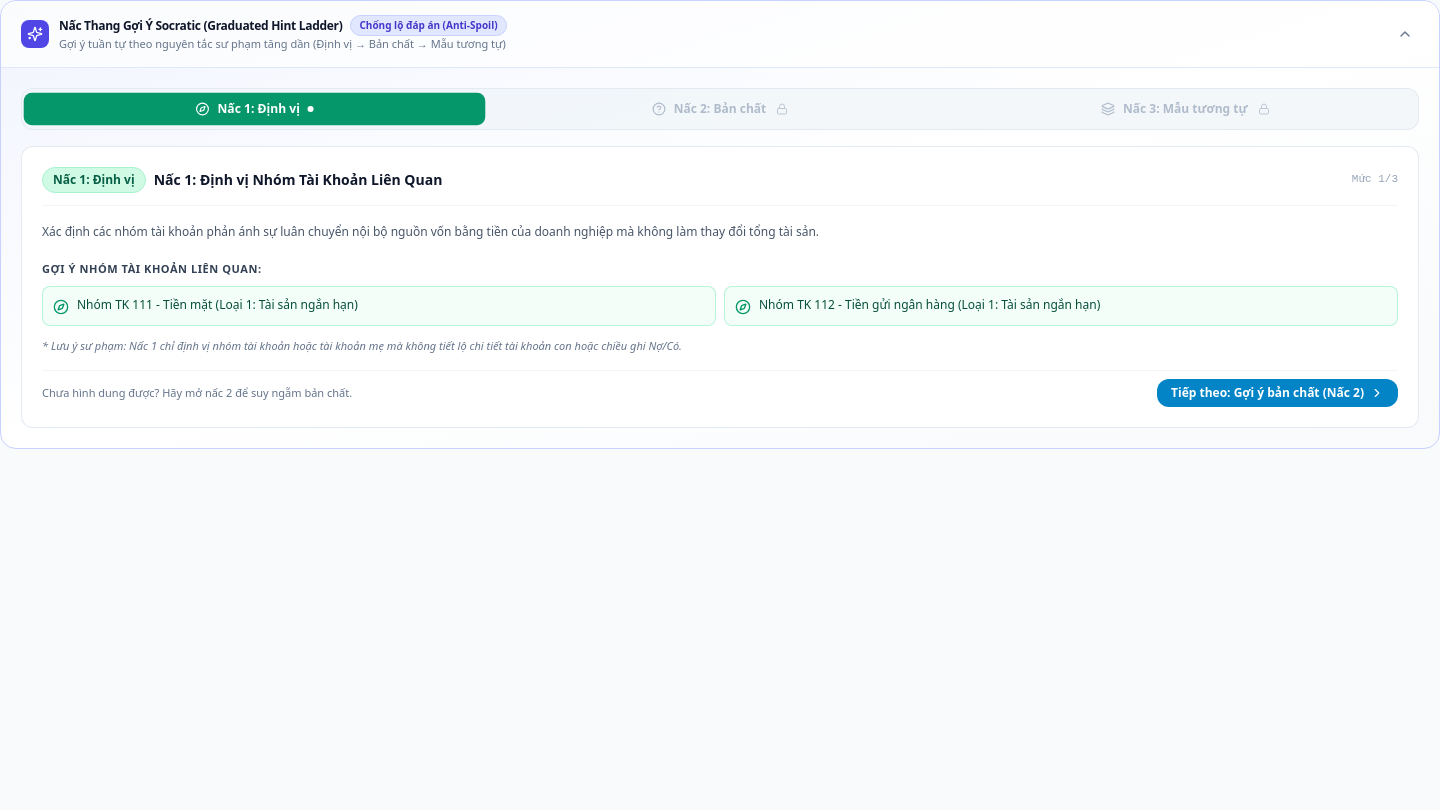
it: SOCRATIC HINT LADDER (R2) UNIT TESTS › 3. Anti-Spoil Sequential Progression › should reset ladder progression back to Level 1 when "Đặt lại" button is clicked
This screenshot has width=1440, height=810.
Note: Unlock through Level 2
Click the button with test id "unlock-level-2-button".
click(1278, 393)  # box [1157, 379, 1398, 407]
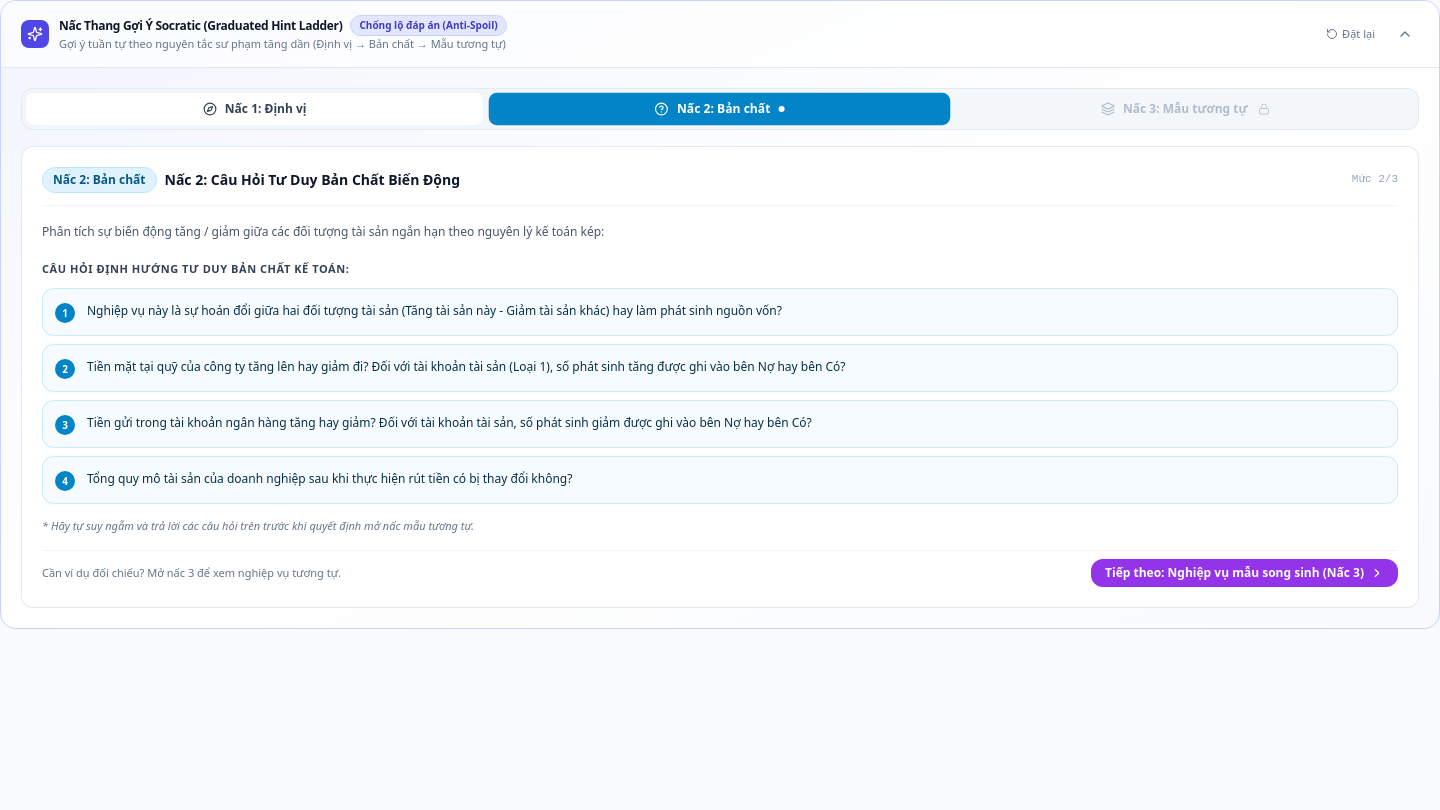
Now the element with test id "level-2-content" is shown, box [42, 257, 1398, 534]
Note: Click "Đặt lại" in header
Click the button titled "Đặt lại nấc thang gợi ý về Nấc 1".
click(1351, 34)  # box [1318, 22, 1383, 46]
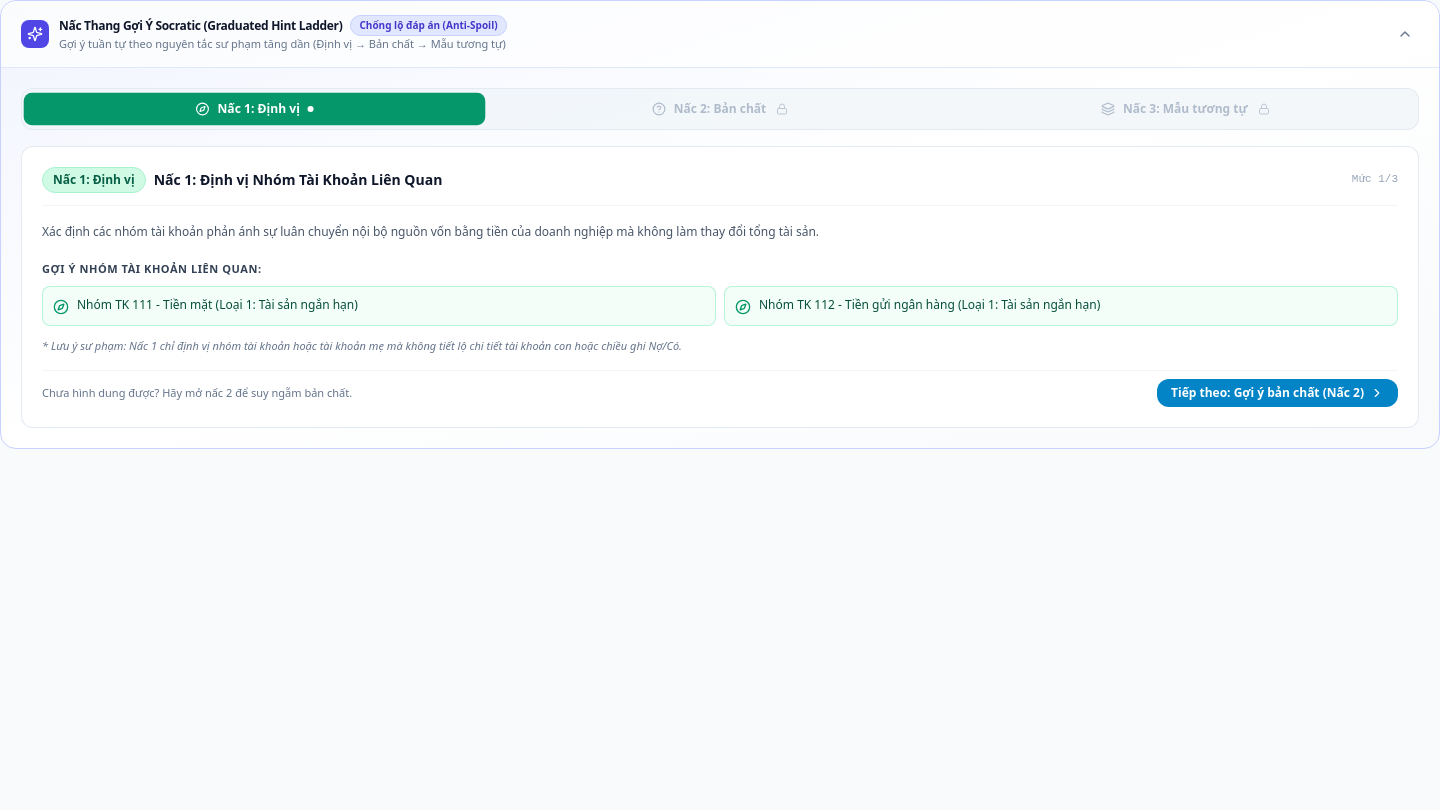
Expected: the button with test id "hint-step-button-3" is disabled, [957, 92, 1414, 124]
Now the element with test id "level-1-content" is shown, box [42, 257, 1398, 354]
Now the button with test id "hint-step-button-2" is disabled, box [491, 92, 949, 124]
